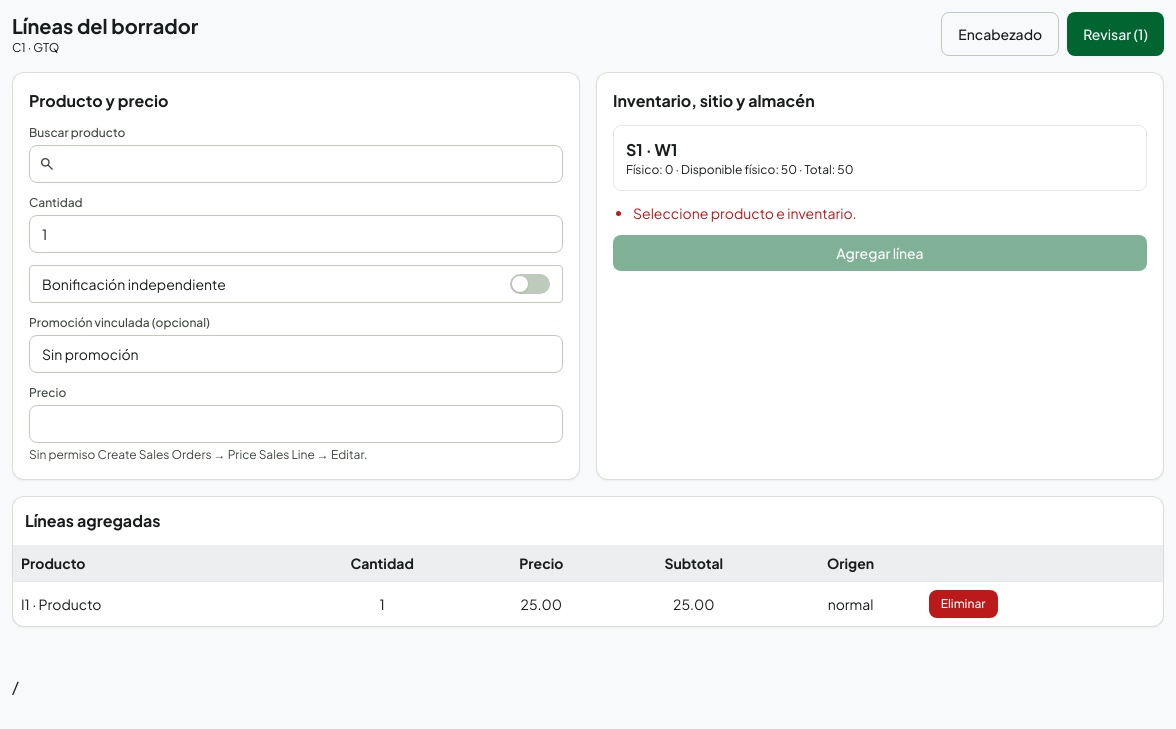
Test: AddOrderLinePage commercial selection › requires a selection, adds a valid local line and resets inputs without creating a sales order
Check: the button "Agregar línea" is disabled, box [613,235,1147,271]
Type "I1" into the field labelled "Buscar producto".
click(296, 164); type("I1")  # box [29,145,563,183]
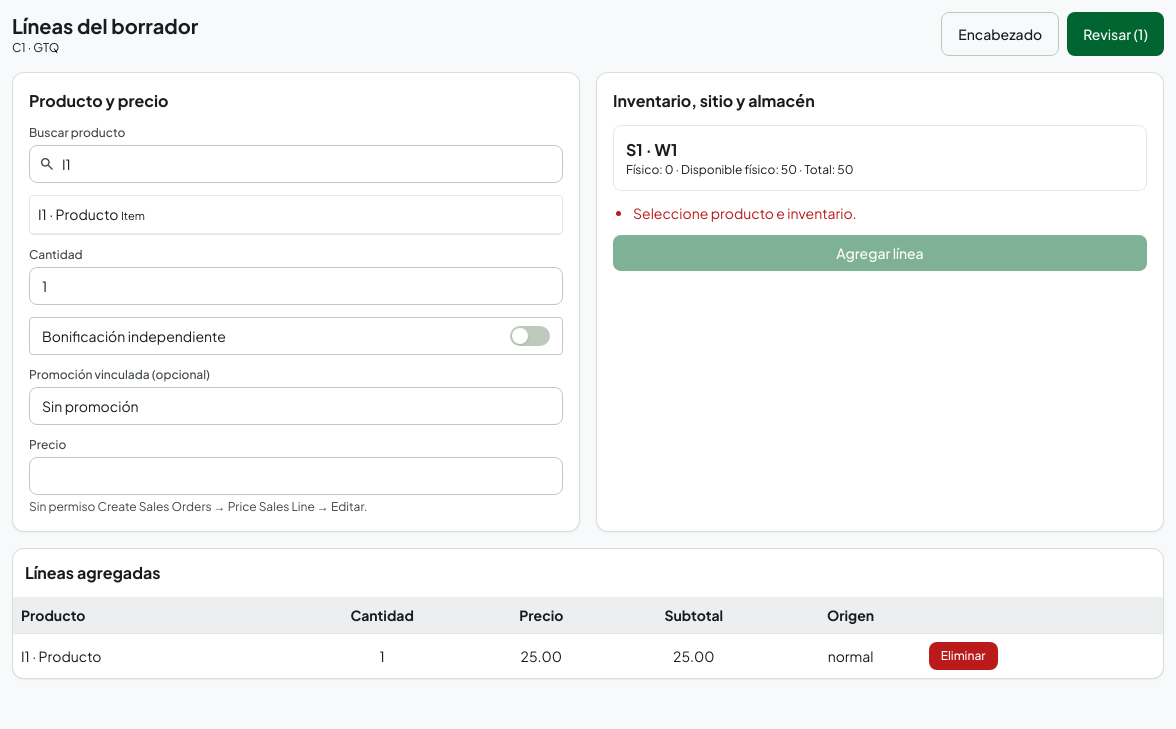
Click the button "I1 · Producto Item".
click(87, 214)  # box [30,196,562,234]
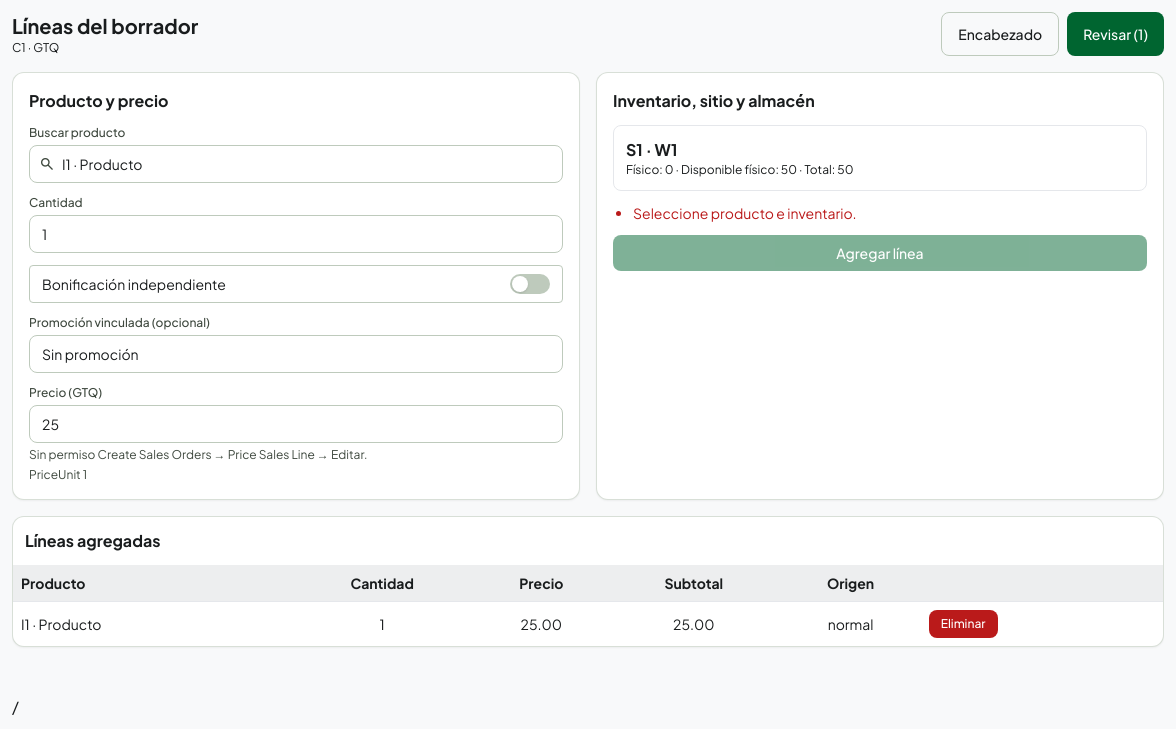
Check: the number field labelled "Precio (GTQ)" holds "25", box [29,405,563,443]
Click the button "S1 · W1 Físico: 0 · Disponible físico: 50 · Total: 50".
click(645, 170)  # box [613,125,1147,191]
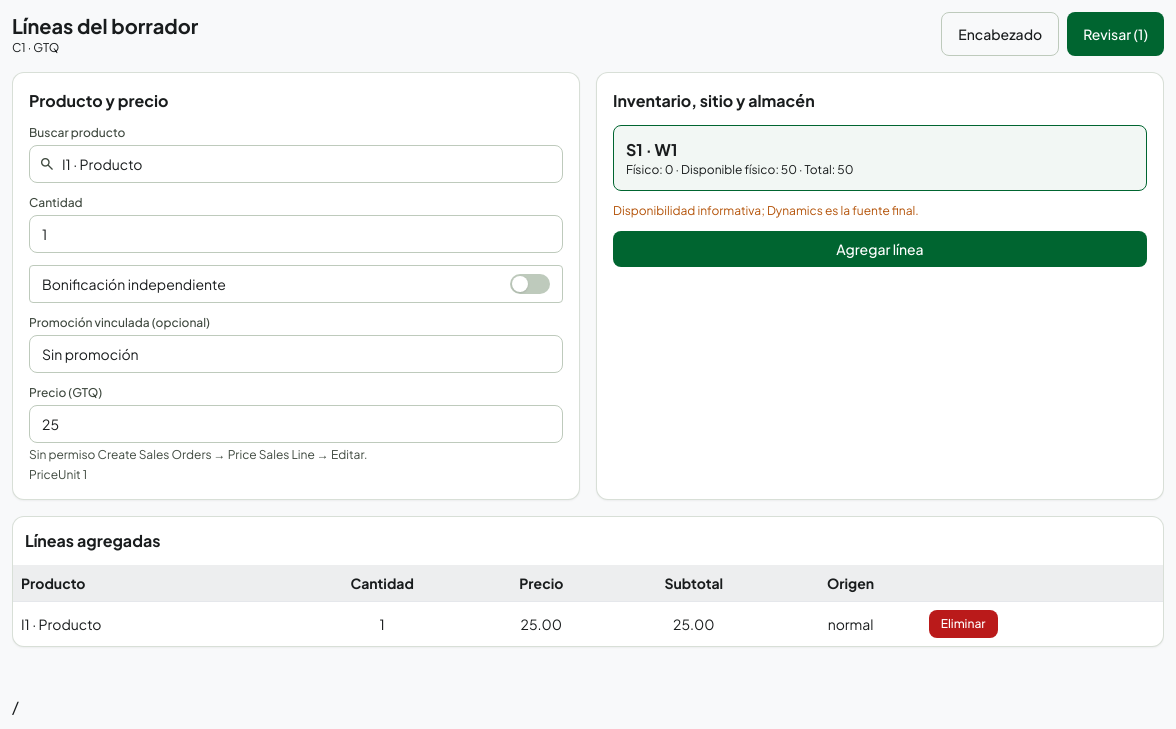
Replace the text in the number field labelled "Cantidad" with "2" at [296, 234], box [29,215,563,253]
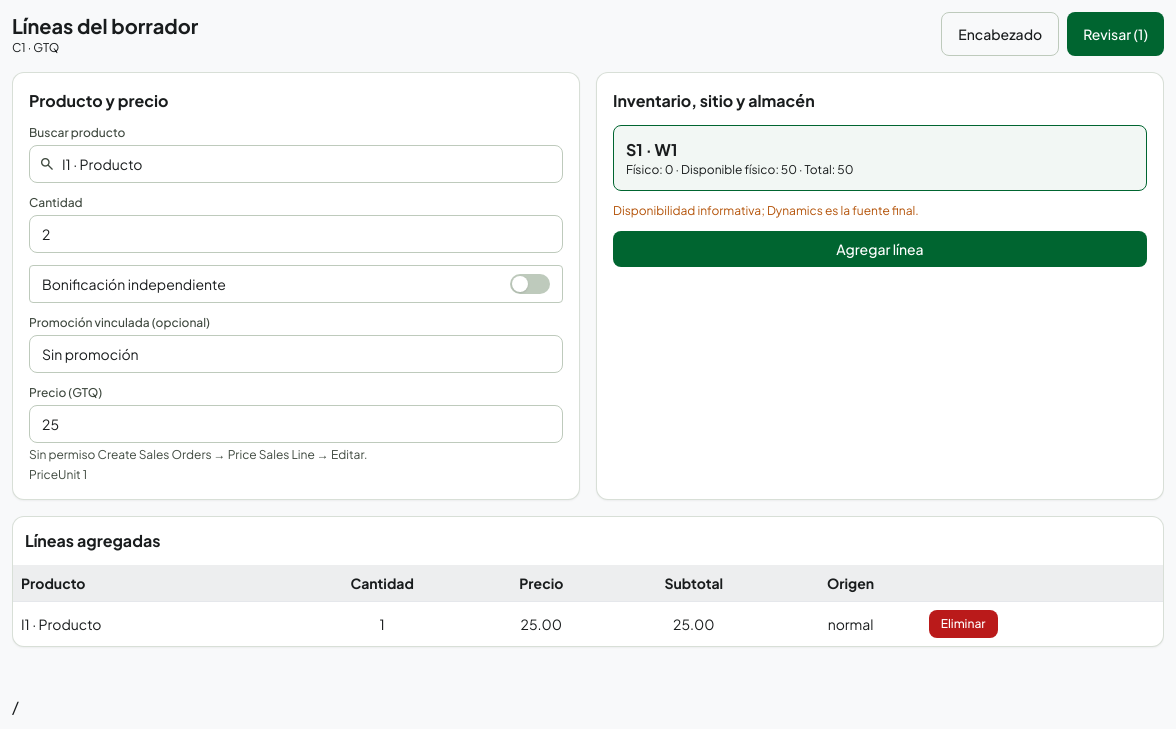
Click the button "Agregar línea".
click(880, 249)  # box [613,231,1147,267]
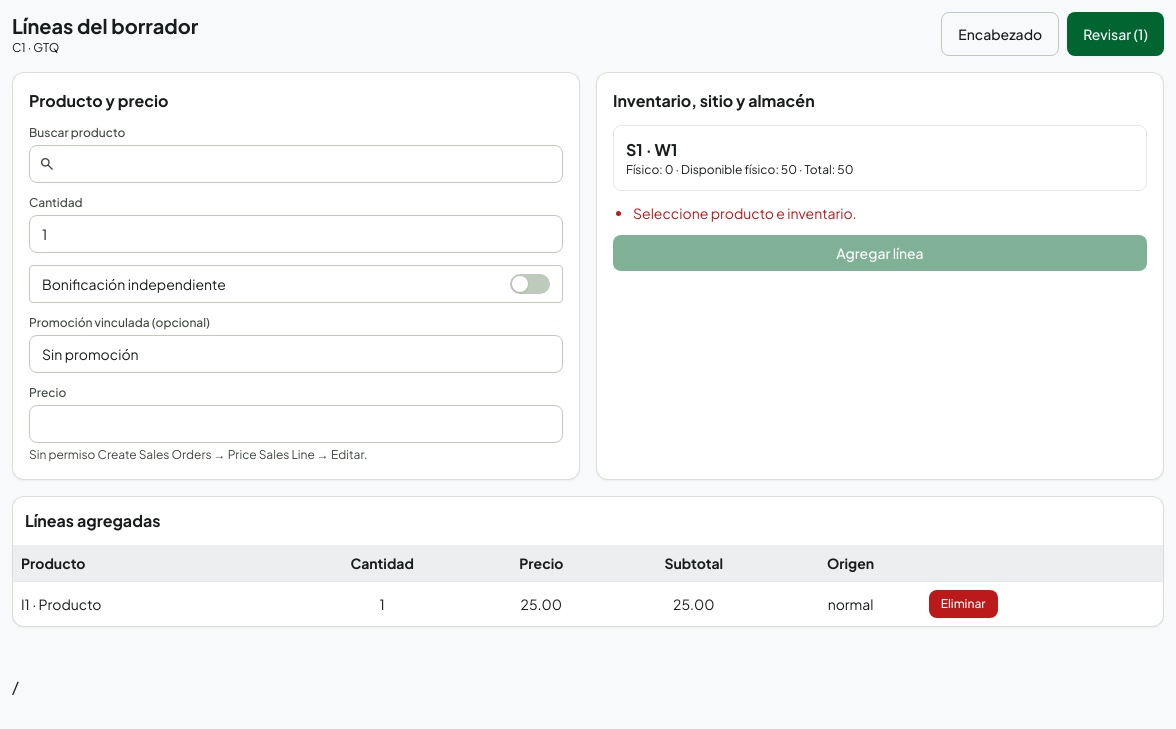
Check: the field labelled "Buscar producto" is empty, box [29,145,563,183]
Check: the number field labelled "Cantidad" holds "1", box [29,215,563,253]
